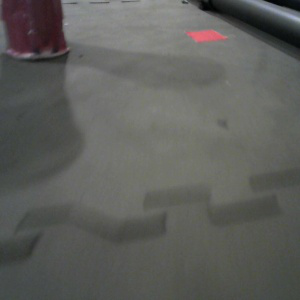Middle: (3, 1, 70, 60)
